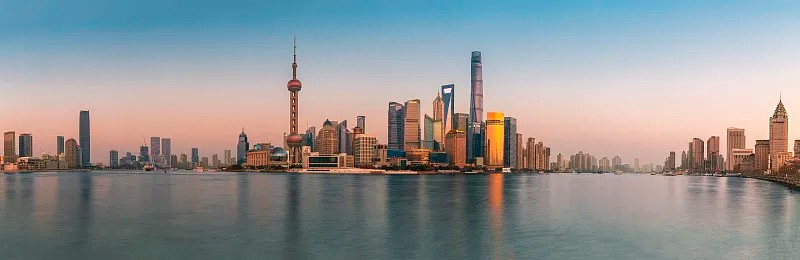Oriental: (287, 30, 302, 162)
